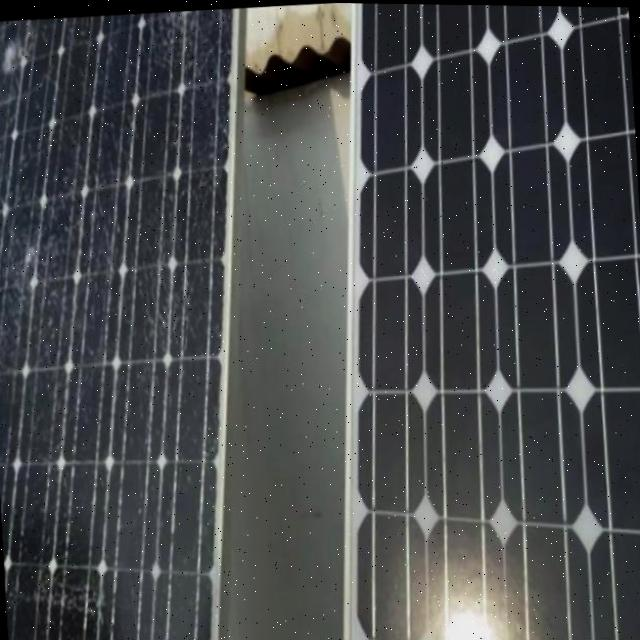Normal Solar Panel: (301, 1, 640, 640)
